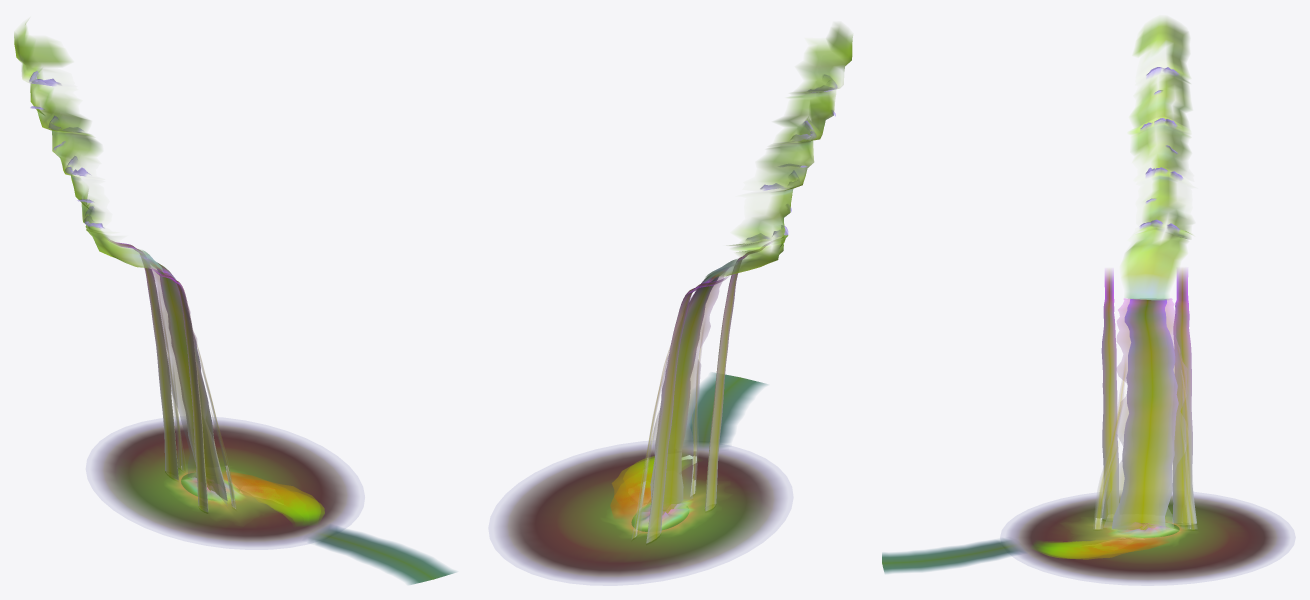
Rendered from falls_water.glb.
3 renders of one model, left to right at view 1: azimuth 30°, elevation 25°; view 2: azimuth 150°, elevation 25°; view 3: azimuth 270°, elevation 25°, orthographic. The views are drawn at different scales.
Parts seen in each view (by area): view 1: W_falls_pool, W_falls_cascade, W_falls_plunge_2, W_falls_plunge_1, W_falls_foam, W_falls_plunge_0, W_falls_outlet; view 2: W_falls_pool, W_falls_cascade, W_falls_plunge_2, W_falls_plunge_1, W_falls_plunge_0, W_falls_foam, W_falls_outlet; view 3: W_falls_pool, W_falls_cascade, W_falls_plunge_0, W_falls_plunge_1, W_falls_plunge_2, W_falls_foam, W_falls_outlet.
Part boxes in pixels (left/top/right/bottom): W_falls_pool: left=92, top=420, right=358, bottom=546; W_falls_cascade: left=14, top=22, right=163, bottom=272; W_falls_plunge_2: left=109, top=239, right=236, bottom=512; W_falls_plunge_1: left=147, top=260, right=227, bottom=505; W_falls_foam: left=166, top=468, right=324, bottom=524; W_falls_plunge_0: left=144, top=258, right=227, bottom=501; W_falls_outlet: left=308, top=525, right=455, bottom=584; W_falls_pool: left=495, top=444, right=786, bottom=582; W_falls_cascade: left=703, top=24, right=852, bottom=282; W_falls_plunge_2: left=632, top=242, right=770, bottom=543; W_falls_plunge_1: left=653, top=269, right=726, bottom=510; W_falls_plunge_0: left=650, top=270, right=725, bottom=515; W_falls_foam: left=610, top=456, right=718, bottom=536; W_falls_outlet: left=683, top=372, right=767, bottom=448; W_falls_pool: left=1006, top=493, right=1289, bottom=583; W_falls_cascade: left=1121, top=18, right=1192, bottom=300; W_falls_plunge_0: left=1111, top=299, right=1178, bottom=529; W_falls_plunge_1: left=1103, top=298, right=1187, bottom=527; W_falls_plunge_2: left=1093, top=269, right=1197, bottom=529; W_falls_foam: left=1034, top=517, right=1192, bottom=559; W_falls_outlet: left=882, top=539, right=1024, bottom=573.
Bounding box in the file's own units: 24.08 × 36.37 × 31.13.
